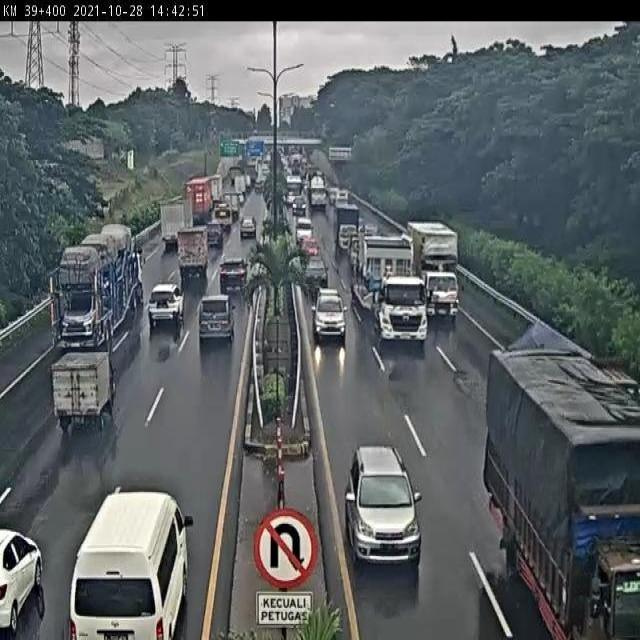Bus: (286, 174, 302, 200)
Car: (344, 443, 423, 564), (0, 530, 43, 640), (312, 288, 348, 346), (146, 283, 184, 330), (198, 294, 235, 341), (219, 257, 248, 294), (304, 255, 328, 293), (295, 218, 313, 247), (299, 235, 320, 258), (240, 216, 257, 239), (291, 195, 307, 216)
Truck: (481, 344, 638, 640), (52, 224, 142, 352), (350, 233, 432, 349), (51, 347, 117, 434), (406, 219, 462, 320), (176, 226, 209, 287), (159, 201, 186, 255), (185, 177, 214, 226), (334, 203, 360, 250), (309, 174, 327, 210), (206, 220, 224, 248)
Van: (68, 489, 190, 637)
